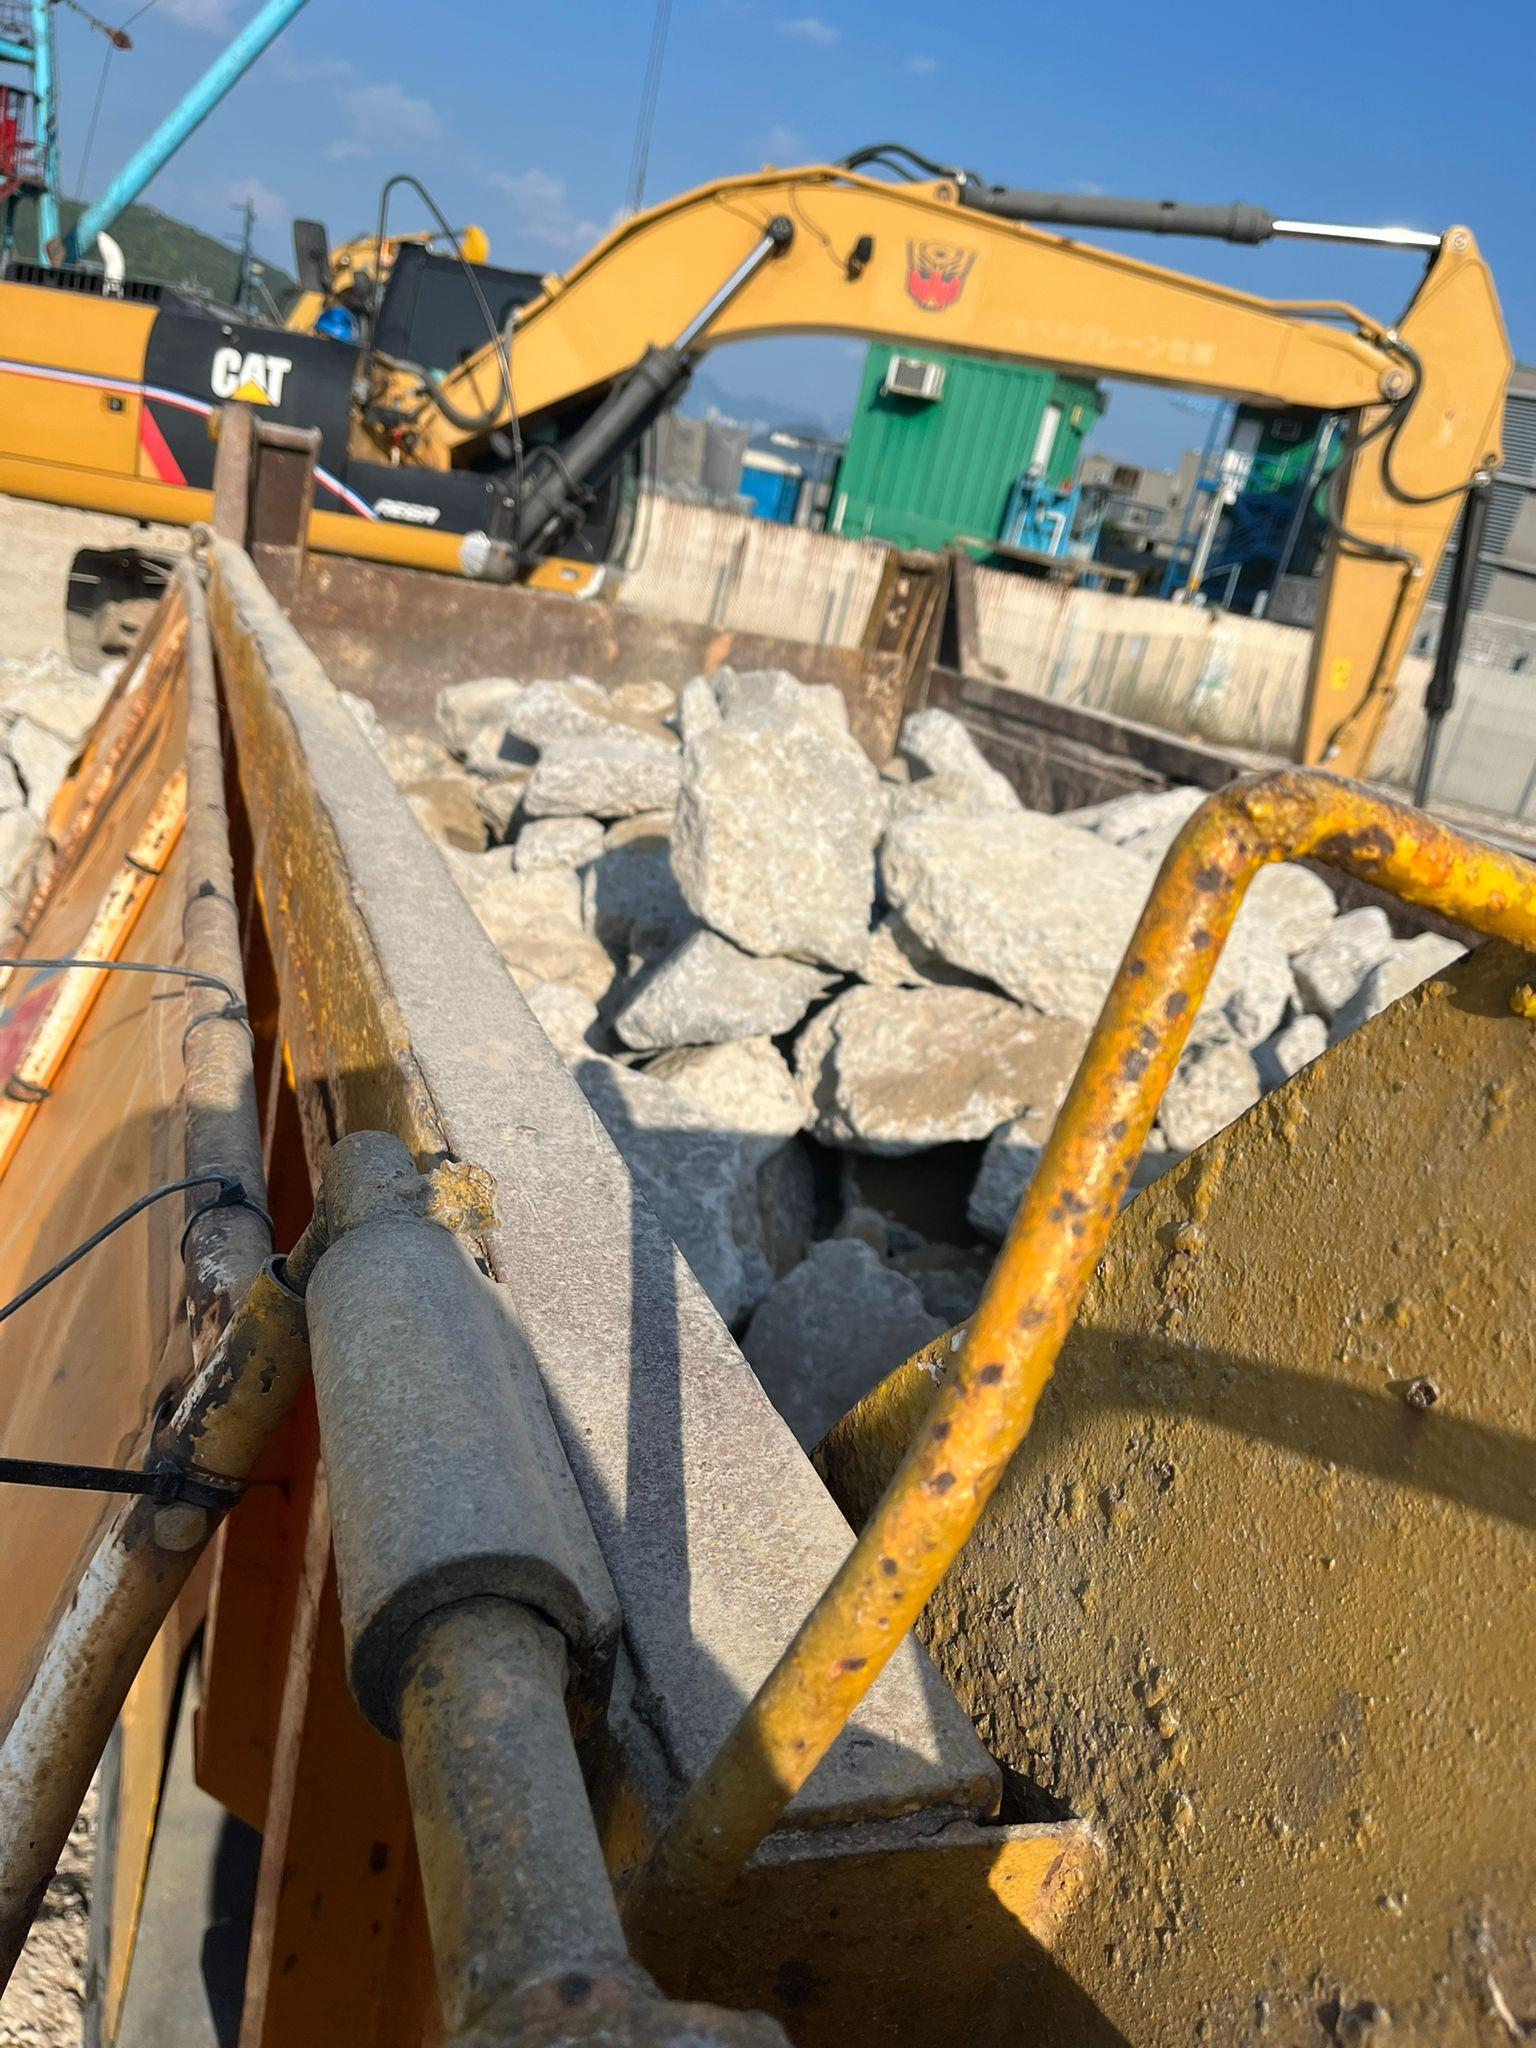dry: (394, 690, 1179, 1390)
